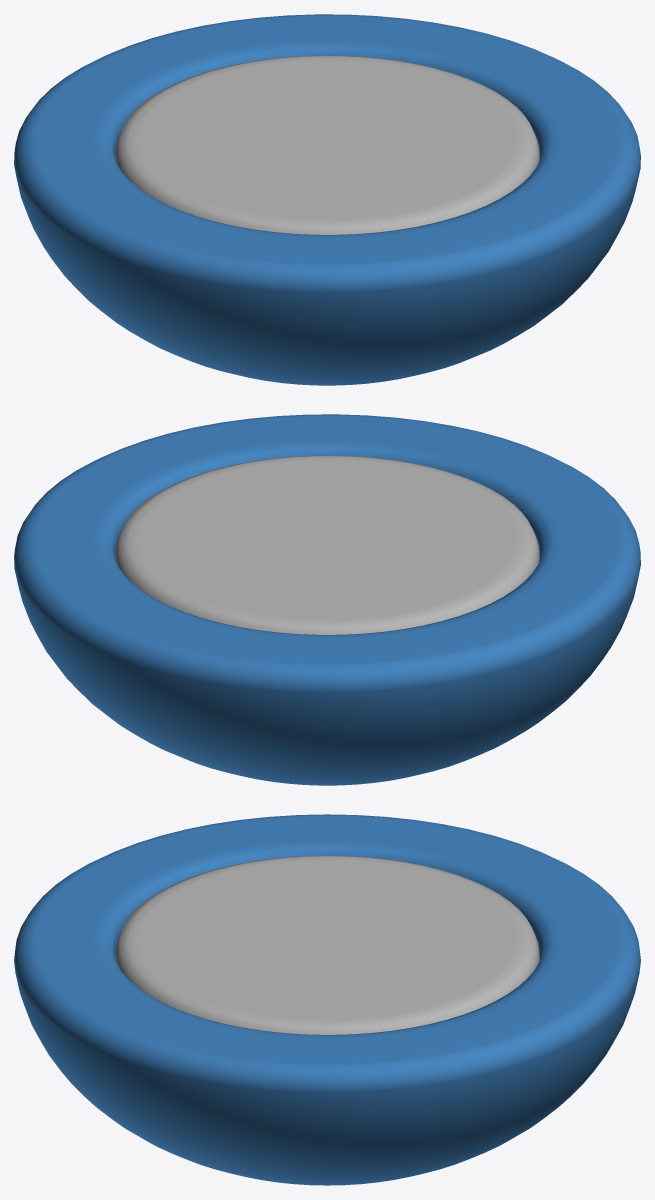
File: SocceteoPlayerBase.fbx
3 views of the same model, one above another, from view 1: azimuth 30°, elevation 25°; view 2: azimuth 150°, elevation 25°; view 3: azimuth 270°, elevation 25° (orthographic).
Parts seen in each view (by area): view 1: PuntBase; view 2: PuntBase; view 3: PuntBase.
Part boxes in pixels (x1,y1,x2,y2): PuntBase: [14, 14, 640, 385]; PuntBase: [14, 414, 640, 785]; PuntBase: [14, 814, 640, 1185].
Size of the model in its own units: 58.93 by 21.36 by 58.93.
